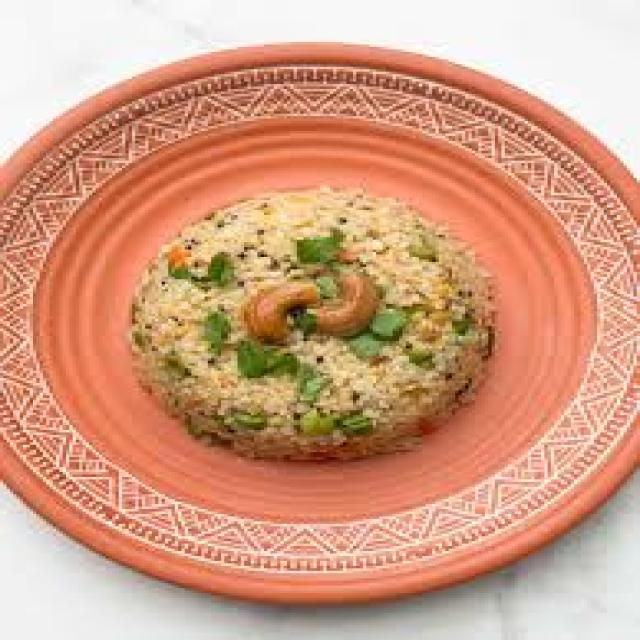UPMA: (125, 185, 488, 452)
